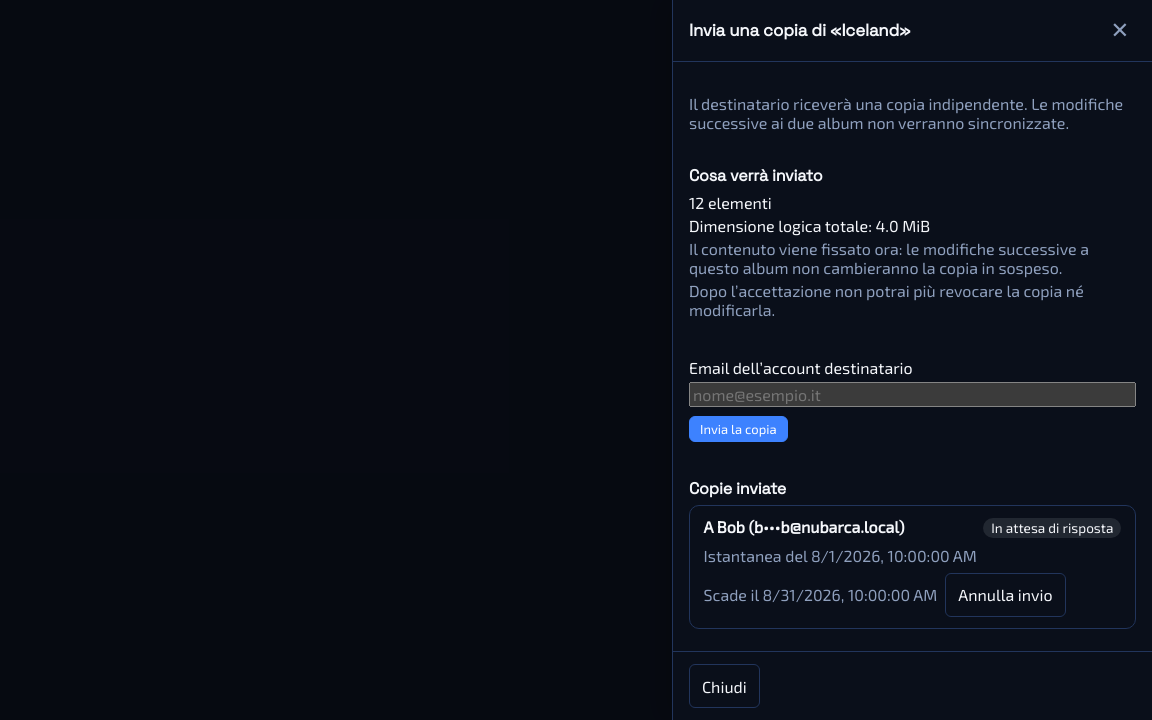
Test: sender panel › lets the sender cancel a pending copy
The image size is (1152, 720).
Click the button with test id "album-copy-cancel-t-1" at (1005, 595), box top-left (945, 573), bottom-right (1066, 617)
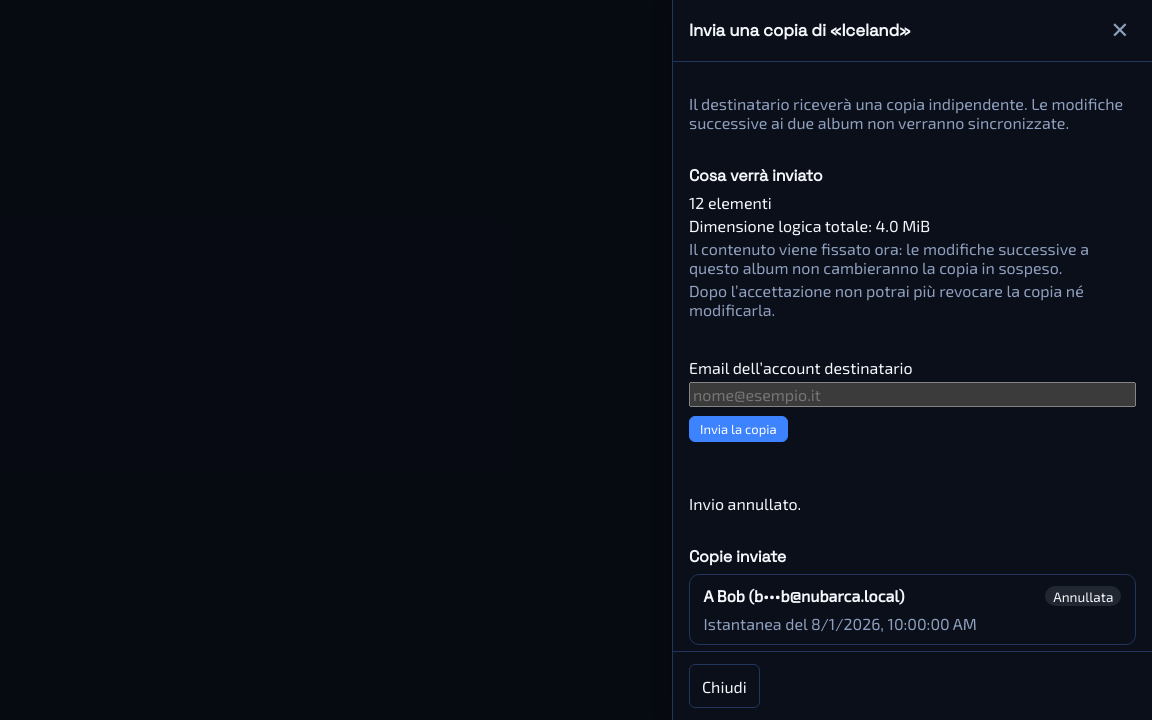
expect the text with test id "album-copy-state-t-1" reads "Annullata": met, box top-left (1053, 588), bottom-right (1113, 605)
expect the button with test id "album-copy-cancel-t-1" is gone: met
